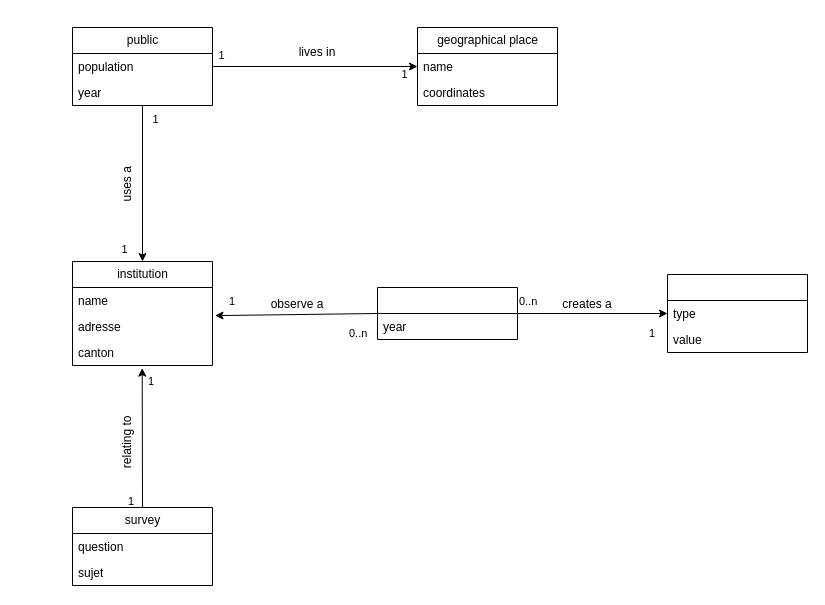
Some shapes in this 825 by 605 pixel diagram are drawn without their labels. Here are the shapes that lost their labels. From the top down, the box of each, then its label:
(376, 286, 518, 340): observation
(666, 274, 808, 352): statistique
